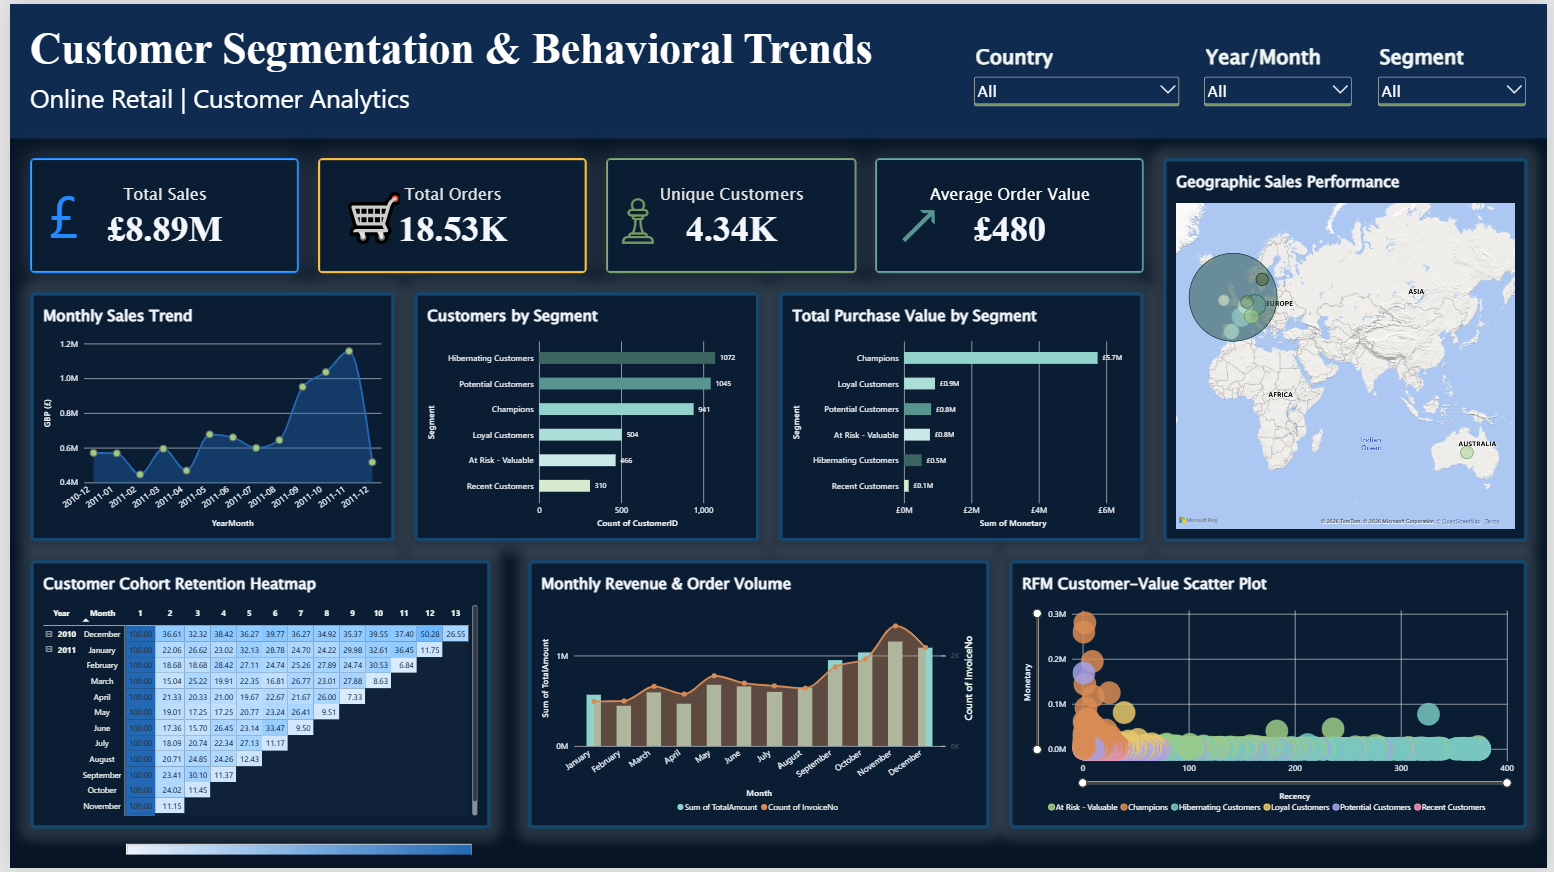

This screenshot's page, from the dashboard's own definition file:
{"tool":"powerbi","page":{"name":"Page 1","canvas":[2560,1440],"ordinal":0},"visuals":[{"type":"shape","box":[0,0,2560,224],"z":0},{"type":"cardVisual","fields":{"Data":["Transactions.Total Sales"]},"box":[32,256,448,192],"z":1000},{"type":"cardVisual","fields":{"Data":["Transactions.Total Orders"]},"box":[512,256,448,192],"z":2000},{"type":"cardVisual","fields":{"Data":["Transactions.Unique Customers"]},"box":[992,256,416,192],"z":3000},{"type":"lineChart","title":"Monthly Sales Trend","fields":{"Category":["Transactions.YearMonth"],"Y":["Transactions.Total Sales"]},"box":[32,480,608,416],"z":4000},{"type":"clusteredBarChart","title":"Customers by Segment","fields":{"Category":["RFM.Segment"],"Y":["CountNonNull(RFM.CustomerID)"]},"box":[672,480,576,416],"z":5000},{"type":"clusteredBarChart","title":"Total Purchase Value by Segment","fields":{"Category":["RFM.Segment"],"Y":["Sum(RFM.Monetary)"]},"box":[1280,480,608,416],"z":6000},{"type":"map","title":"Geographic Sales Performance","fields":{"Category":["Transactions.Country"],"Size":["Transactions.Unique Customers"]},"box":[1920,256,608,640],"z":7000},{"type":"slicer","fields":{"Values":["Transactions.YearMonth"]},"box":[1984,64,256,160],"z":8000},{"type":"pivotTable","title":"Customer Cohort Retention Heatmap","fields":{"Rows":["CohortRetention.CohortMonth.Variation.Date Hierarchy.Year","CohortRetention.CohortMonth.Variation.Date Hierarchy.Month"],"Values":["Avg(CohortRetention.1)","Avg(CohortRetention.2)","Avg(CohortRetention.3)","Avg(CohortRetention.4)","Avg(CohortRetention.5)","Avg(CohortRetention.6)","Avg(CohortRetention.7)","Avg(CohortRetention.8)","Avg(CohortRetention.9)","Avg(CohortRetention.10)","Avg(CohortRetention.11)","Avg(CohortRetention.12)"]},"box":[32,928,768,448],"z":9000},{"type":"textbox","box":[32,32,1408,192],"z":10000},{"type":"textbox","box":[32,128,768,64],"z":11000},{"type":"lineStackedColumnComboChart","title":"Monthly Revenue & Order Volume","fields":{"Category":["Transactions.InvoiceDate.Variation.Date Hierarchy.Month"],"Y":["Sum(Transactions.TotalAmount)"],"Y2":["Count(Transactions.InvoiceNo)"]},"box":[864,928,768,448],"z":12000},{"type":"scatterChart","title":"RFM Customer-Value Scatter Plot","fields":{"Series":["RFM.Segment"],"Size":["CountNonNull(RFM.Frequency)"],"X":["RFM.Recency"],"Y":["RFM.Monetary"]},"box":[1664,928,864,448],"z":13000},{"type":"slicer","fields":{"Values":["Transactions.Country"]},"box":[1600,64,352,160],"z":14000},{"type":"image","box":[192,1376,576,64],"z":15000},{"type":"slicer","fields":{"Values":["RFM.Segment"]},"box":[2272,64,256,160],"z":16000},{"type":"cardVisual","fields":{"Data":["Transactions.Average Order Value"]},"box":[1440,256,448,192],"z":17000},{"type":"textbox","box":[64,288,96,128],"z":18000},{"type":"textbox","box":[992,288,96,128],"z":19000},{"type":"textbox","box":[554,298,96,128],"z":20000},{"type":"textbox","box":[1440,288,96,128],"z":21000},{"type":"textbox","box":[1472,288,300,300],"z":22000},{"type":"textbox","box":[992,288,300,300],"z":23000}]}

Visuals, with their boxes in screenshot pixels (x1, y1, x2, y2), scaled from the page's 2560x1440 canvas onto the 1554x872 screenshot:
shape: bbox(0, 0, 1553, 136)
cardVisual - Transactions.Total Sales: bbox(19, 155, 291, 271)
cardVisual - Transactions.Total Orders: bbox(311, 155, 583, 271)
cardVisual - Transactions.Unique Customers: bbox(602, 155, 855, 271)
"Monthly Sales Trend" lineChart: bbox(19, 291, 388, 543)
"Customers by Segment" clusteredBarChart: bbox(408, 291, 758, 543)
"Total Purchase Value by Segment" clusteredBarChart: bbox(777, 291, 1146, 543)
"Geographic Sales Performance" map: bbox(1166, 155, 1535, 543)
slicer - Transactions.YearMonth: bbox(1204, 39, 1360, 136)
"Customer Cohort Retention Heatmap" pivotTable: bbox(19, 562, 486, 833)
textbox: bbox(19, 19, 874, 136)
textbox: bbox(19, 78, 486, 116)
"Monthly Revenue & Order Volume" lineStackedColumnComboChart: bbox(524, 562, 991, 833)
"RFM Customer-Value Scatter Plot" scatterChart: bbox(1010, 562, 1535, 833)
slicer - Transactions.Country: bbox(971, 39, 1185, 136)
image: bbox(117, 833, 466, 871)
slicer - RFM.Segment: bbox(1379, 39, 1535, 136)
cardVisual - Transactions.Average Order Value: bbox(874, 155, 1146, 271)
textbox: bbox(39, 174, 97, 252)
textbox: bbox(602, 174, 660, 252)
textbox: bbox(336, 180, 395, 258)
textbox: bbox(874, 174, 932, 252)
textbox: bbox(894, 174, 1076, 356)
textbox: bbox(602, 174, 784, 356)
